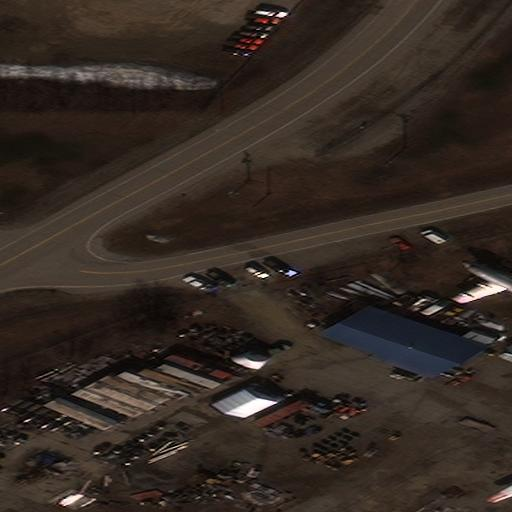Medium Civil Transport: (445, 260, 512, 312)
